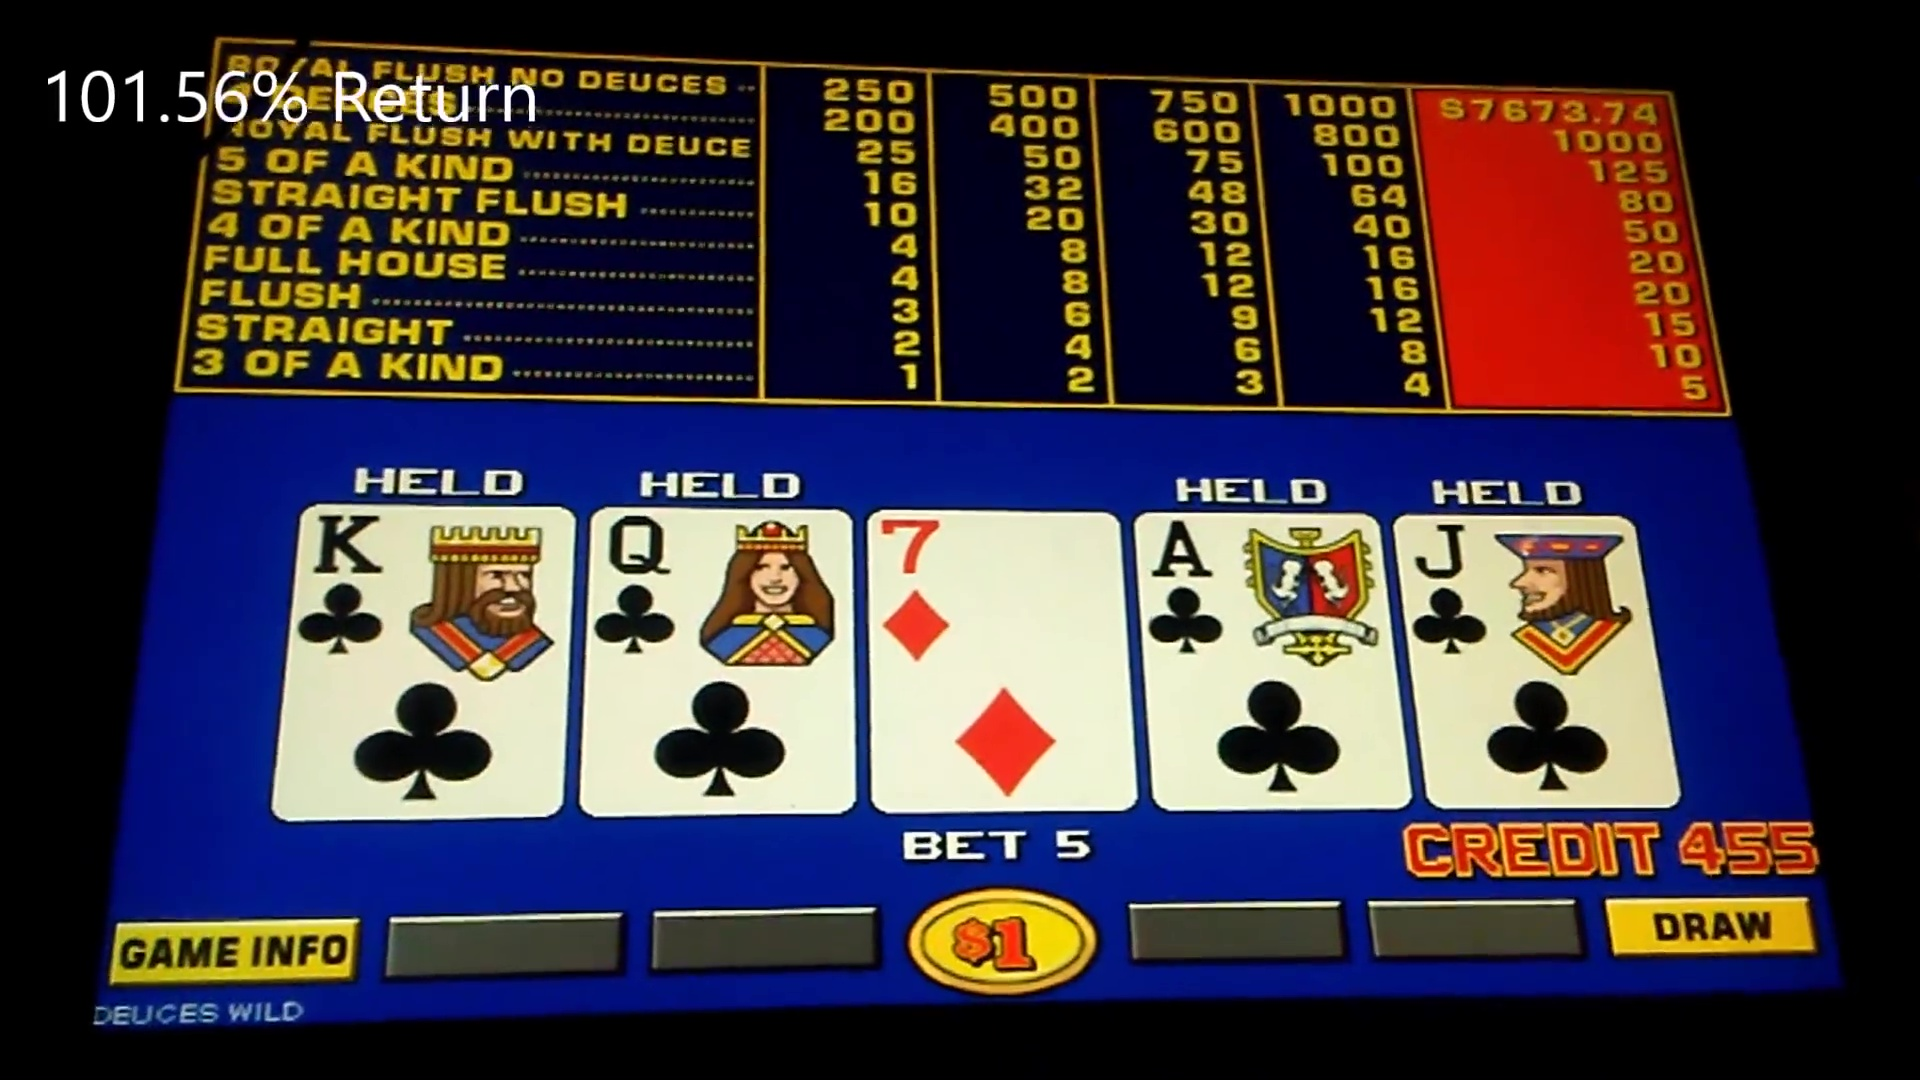CA: (1146, 514, 1389, 659)
CJ: (1414, 512, 1650, 659)
CK: (289, 506, 575, 661)
CQ: (588, 509, 852, 661)
D7: (873, 512, 1120, 661)
